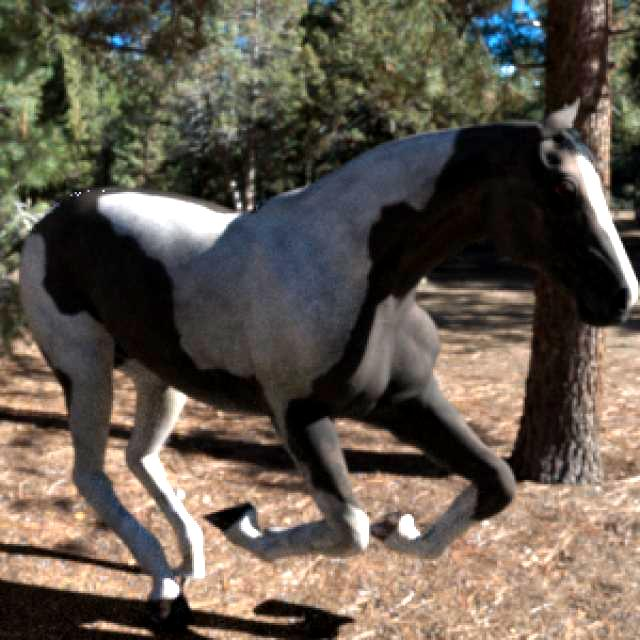horse: (21, 111, 638, 609)
